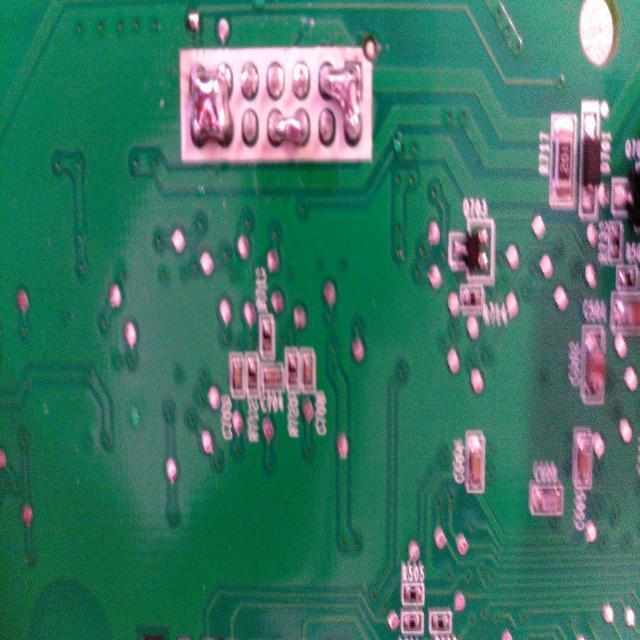Soldering shorted: (315, 54, 364, 149), (186, 59, 235, 153), (264, 106, 312, 152)
